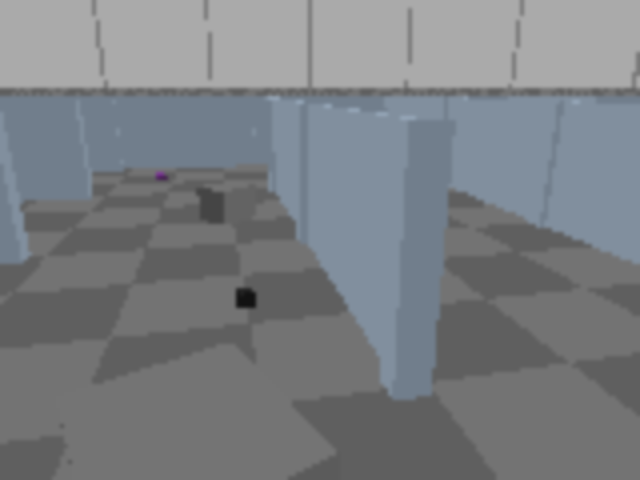puck: (237, 287, 252, 309)
